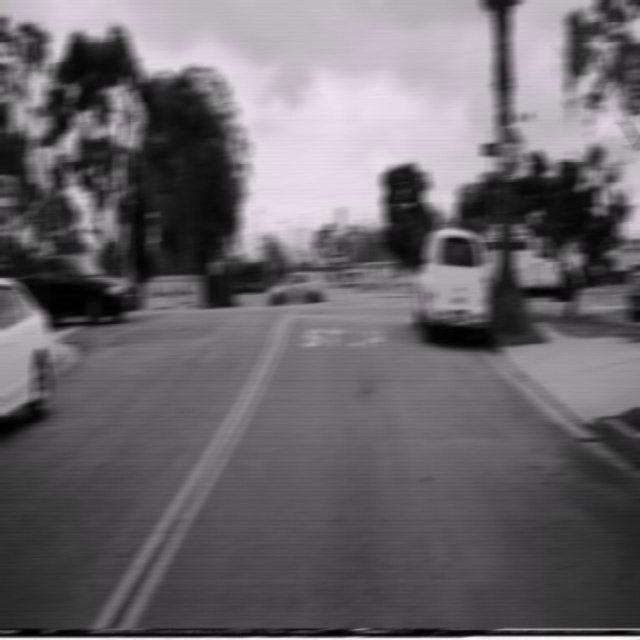stop: (496, 124, 522, 180)
